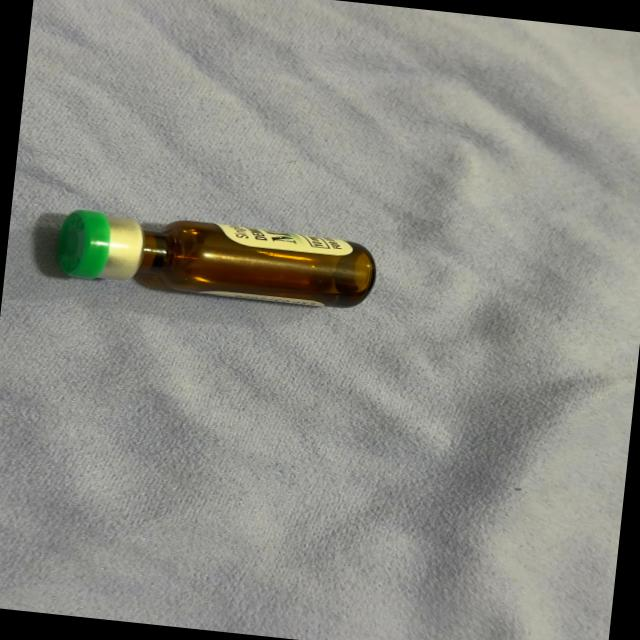midazolm: (59, 207, 372, 310)
